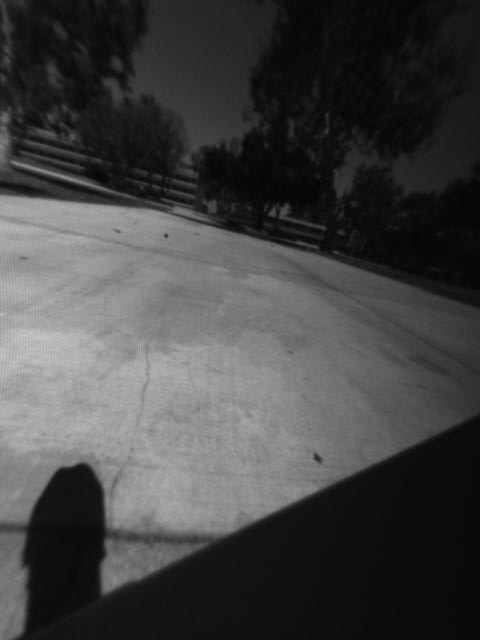dogtoy: (154, 224, 179, 245)
